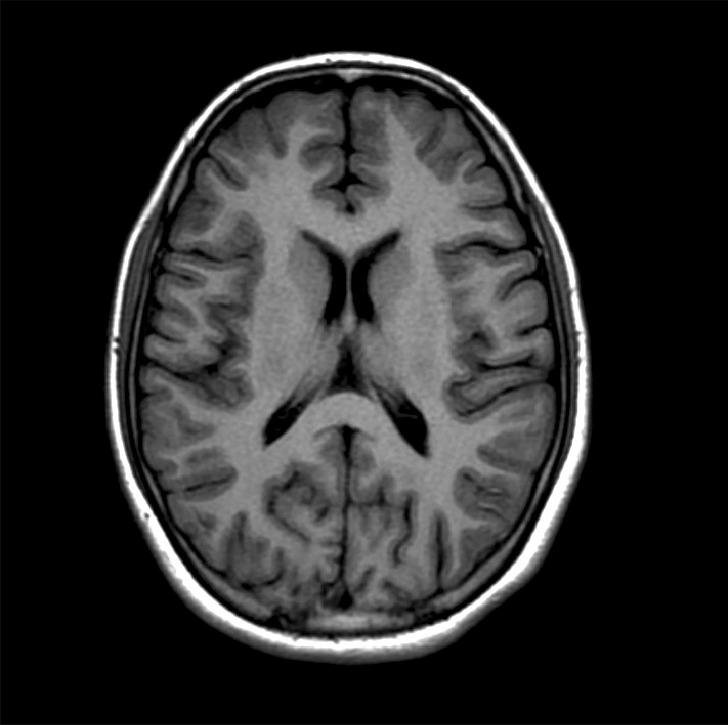Normal_Brain: (3, 1, 728, 725)
